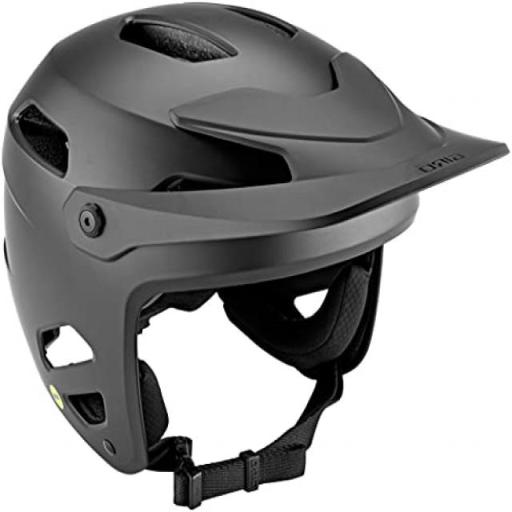Helmet: (4, 4, 507, 507)
